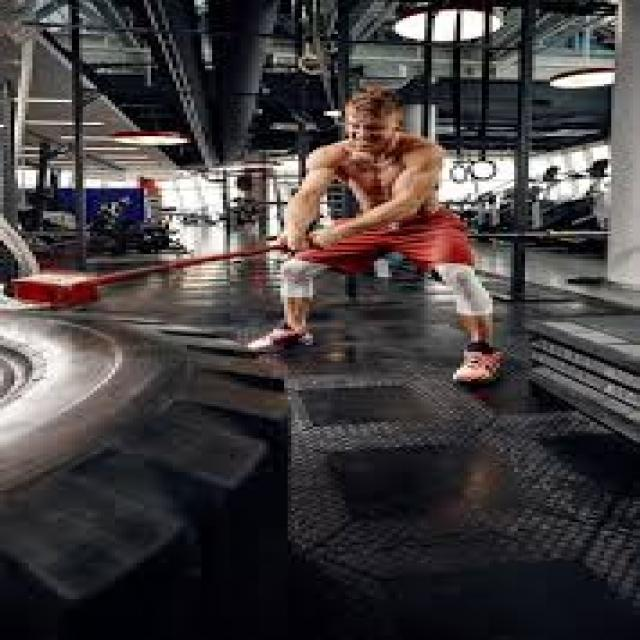hammer: (4, 218, 382, 318)
